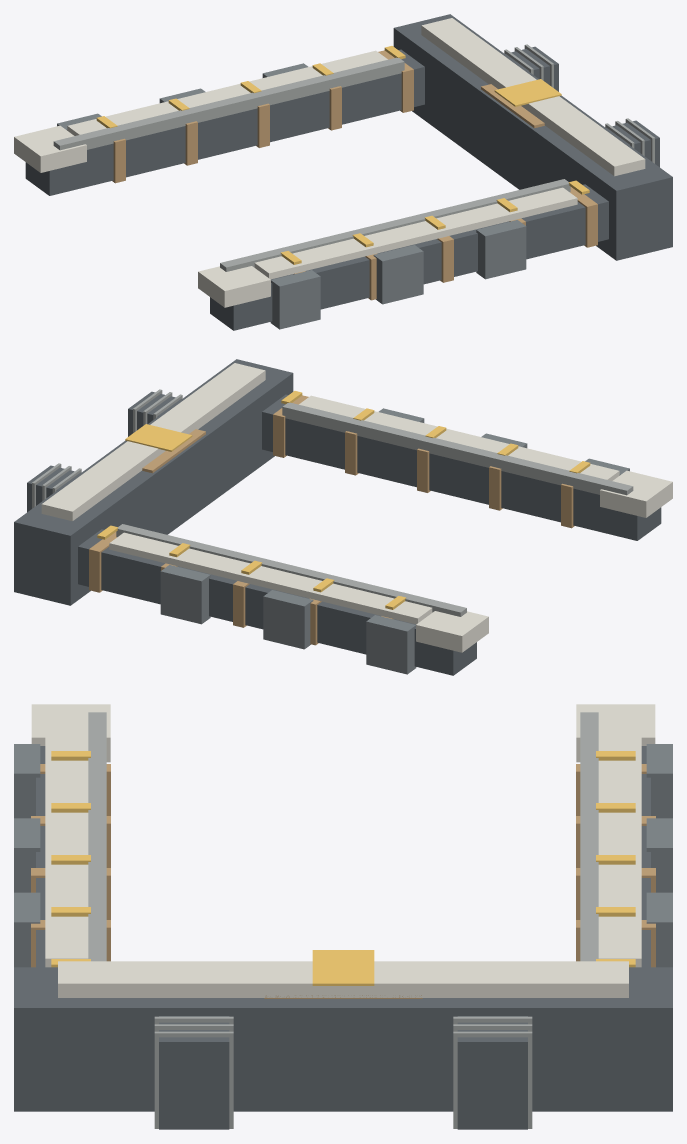
Rendered from capture-fork.glb.
3 views of the same model, one above another, from view 1: azimuth 30°, elevation 25°; view 2: azimuth 150°, elevation 25°; view 3: azimuth 270°, elevation 25° (orthographic). The views are drawn at different scales.
Parts seen in each view (by area): view 1: graphite, paint_bone, machined, ceramic_dark, copper, signal_amber; view 2: graphite, paint_bone, machined, ceramic_dark, copper, signal_amber; view 3: graphite, paint_bone, machined, ceramic_dark, signal_amber, copper.
Boxes of the visible parts, x1,y1,x2,y2 form: graphite: [25, 14, 672, 330]; paint_bone: [14, 18, 645, 307]; machined: [53, 44, 654, 271]; ceramic_dark: [57, 63, 526, 329]; copper: [112, 50, 597, 300]; signal_amber: [96, 46, 589, 264]; graphite: [14, 359, 661, 675]; paint_bone: [41, 363, 672, 652]; machined: [32, 389, 633, 616]; ceramic_dark: [160, 408, 629, 674]; copper: [89, 395, 574, 645]; signal_amber: [97, 391, 590, 609]; graphite: [14, 746, 672, 1129]; paint_bone: [31, 704, 655, 997]; machined: [88, 712, 598, 1128]; ceramic_dark: [14, 744, 672, 967]; signal_amber: [51, 751, 635, 985]; copper: [31, 764, 655, 998].
Bounding box in the file's own units: 93 × 15.15 × 75.
